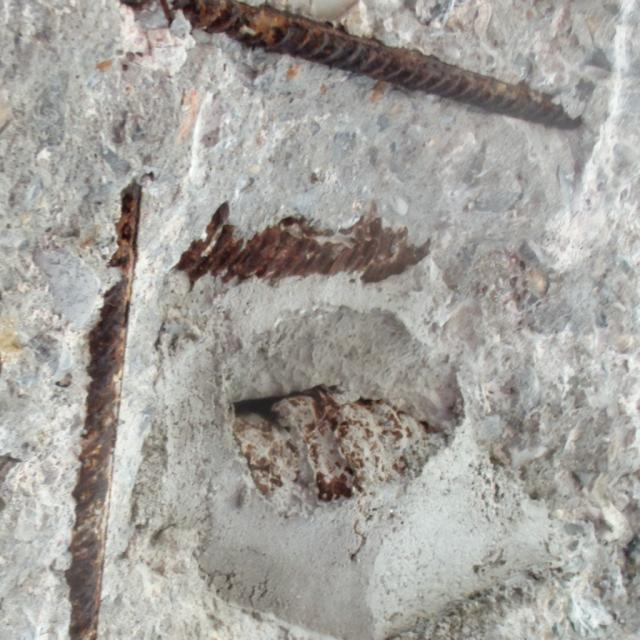D0w0: (122, 0, 582, 128)
